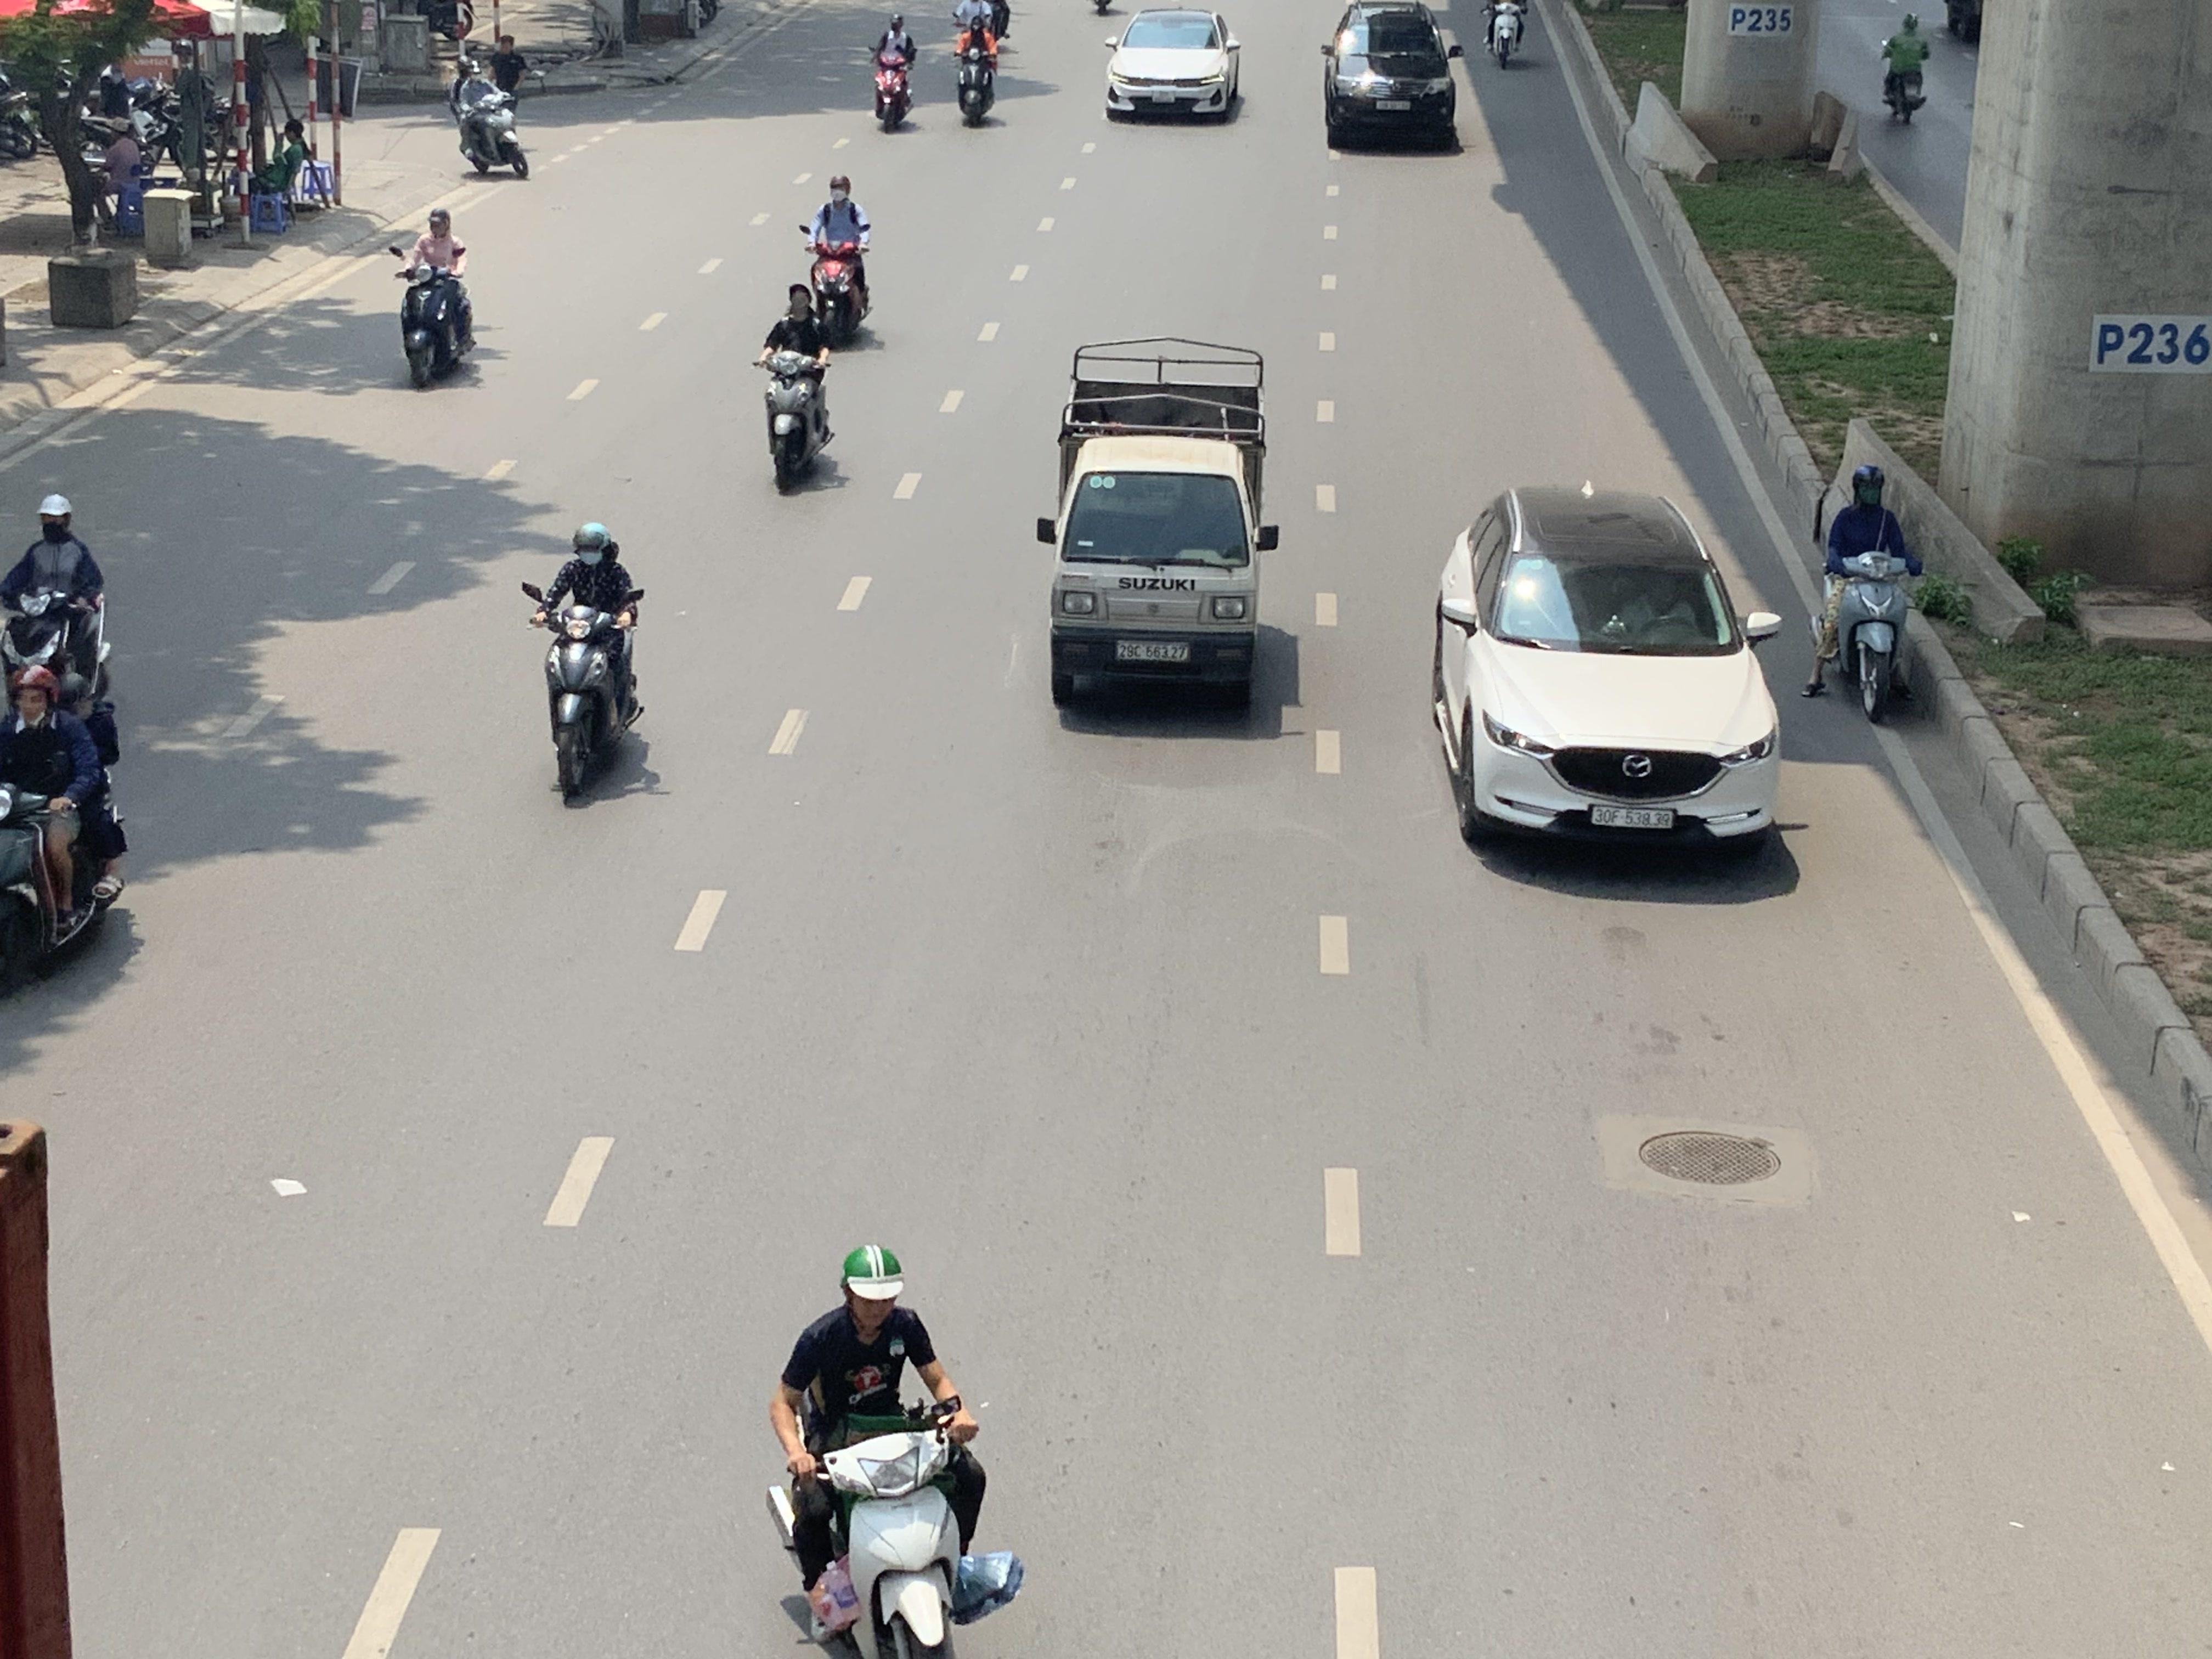BSD: (1592, 805, 1674, 828), (1116, 641, 1190, 662)
car: (1430, 483, 1784, 856), (1320, 2, 1465, 152), (1103, 7, 1245, 124)
motorbike: (768, 1243, 1021, 1659), (0, 660, 129, 1006), (526, 519, 644, 809), (1806, 464, 1921, 725), (0, 493, 113, 714), (756, 282, 836, 497), (394, 207, 479, 390), (798, 174, 874, 347), (453, 58, 529, 179), (953, 3, 1003, 127), (869, 10, 918, 134), (1879, 12, 1930, 125), (1482, 0, 1529, 68)
truck: (1035, 335, 1282, 714)
